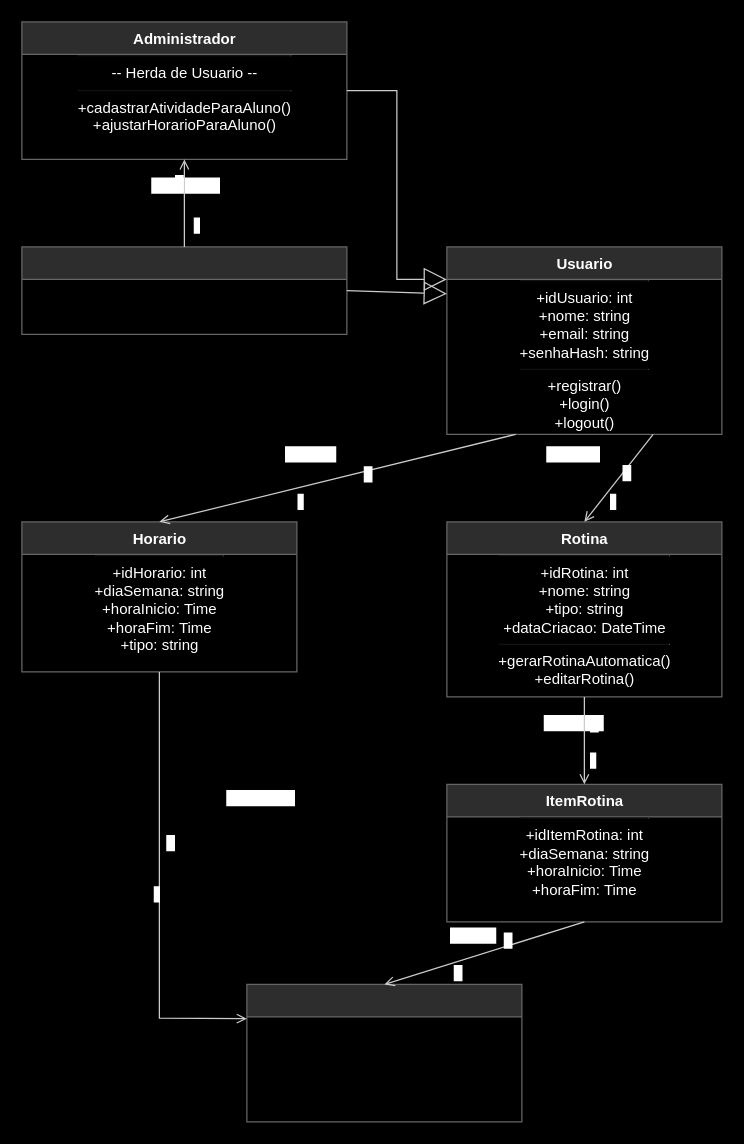
This 744x1144 diagram has some shape labels left out. The centre of each missing label's shape, as x and y in pixels:
"Aluno -- Herda de Usuario --" goes at (184,290).
"Atividade +idAtividade: int +nome: string +peso: int +duracaoMin: int" goes at (384,1052).
